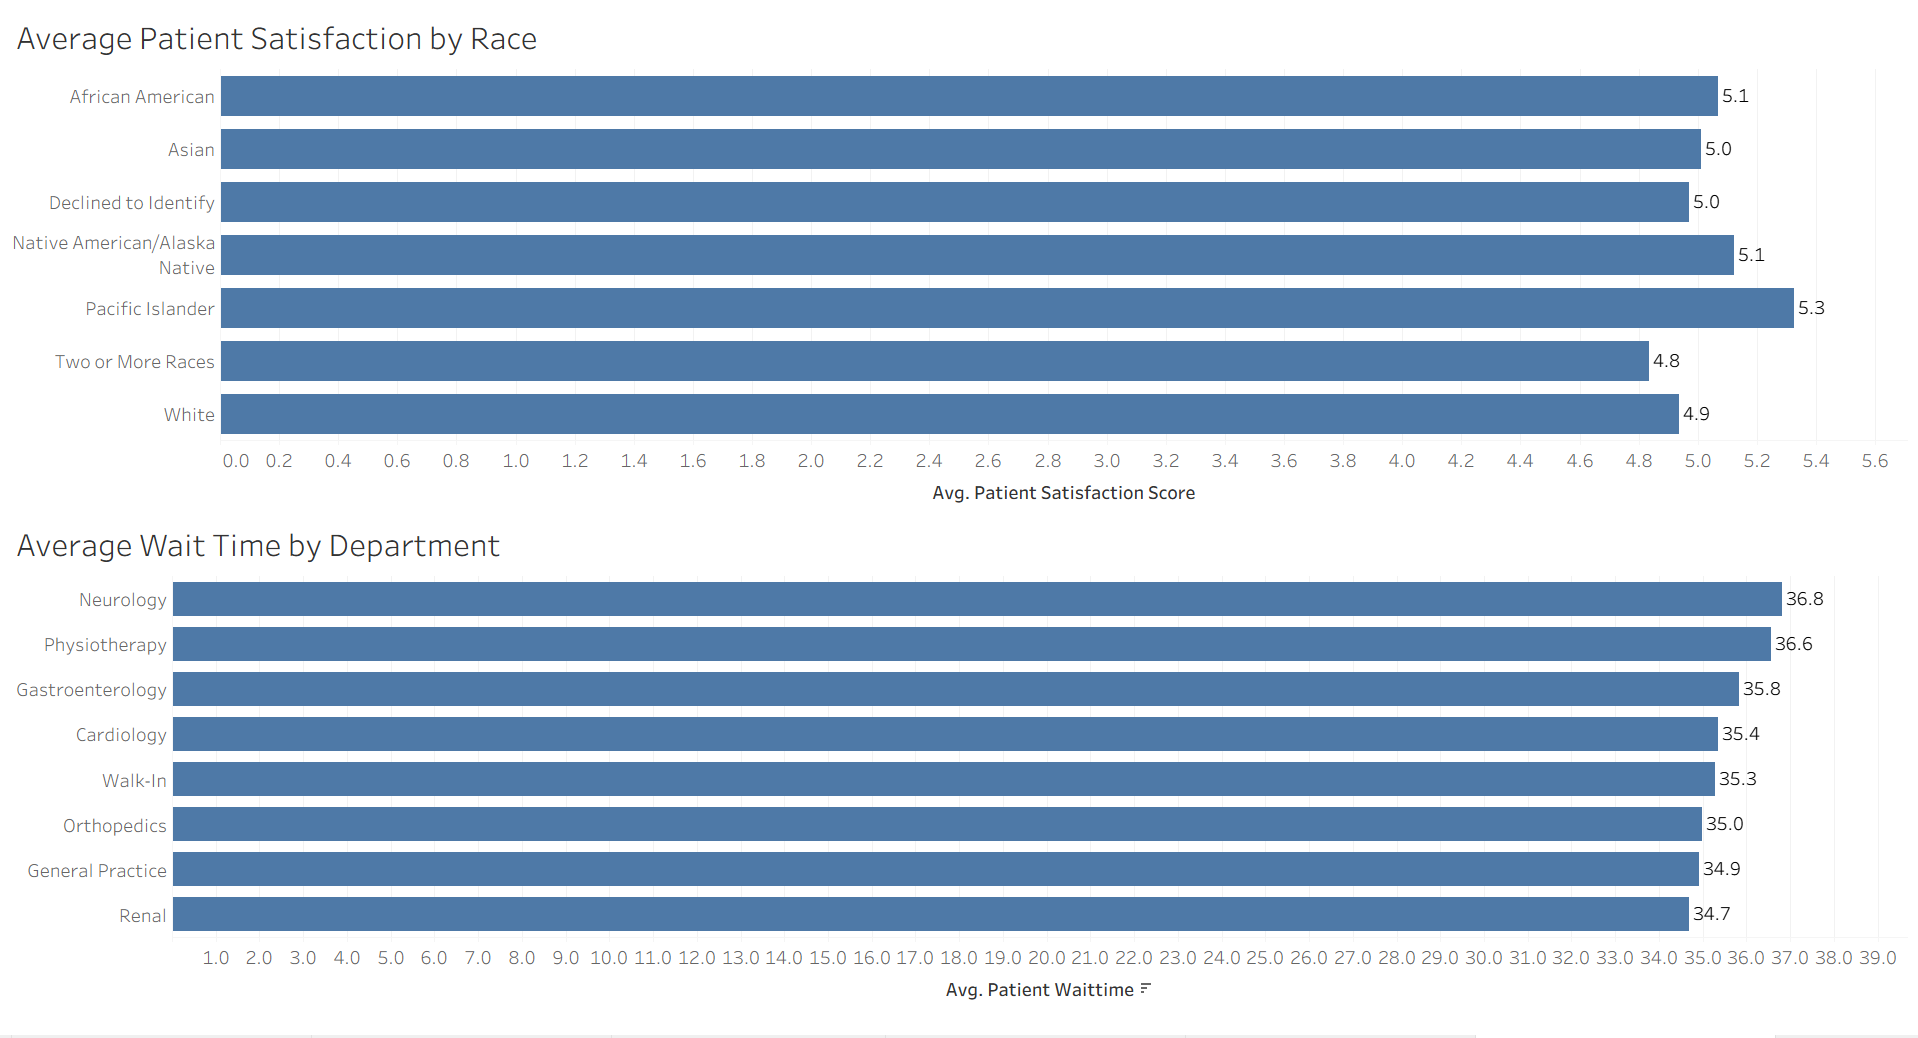

What the dashboard file says about the page in this screenshot:
{"tool":"tableau","page":{"name":"Emergency Room Performance Dashboard","canvas":[1000,1000],"units":"permille","ordinal":1},"visuals":[{"type":"worksheet","title":"Average Patient Satisfaction by Race","mark":"Automatic","rows":["Patient Race"],"cols":["Patient Satisfaction Score"],"box":[4.9,9.9,990.1,487.4]},{"type":"worksheet","title":"Average Wait Time by Department","mark":"Automatic","rows":["Department Referral"],"cols":["Patient Waittime"],"box":[4.9,497.4,990.1,492.7]}]}

Visuals, with their boxes on the dashboard's canvas, which has no fixed pixel size, in thousandths of its width and height (x1, y1, x2, y2). These are canvas units, not pixel positions in the 1918x1038 screenshot, which may show the page scaled, cropped or inside an application window:
"Average Patient Satisfaction by Race" worksheet: BBox(5, 10, 995, 497)
"Average Wait Time by Department" worksheet: BBox(5, 497, 995, 990)
